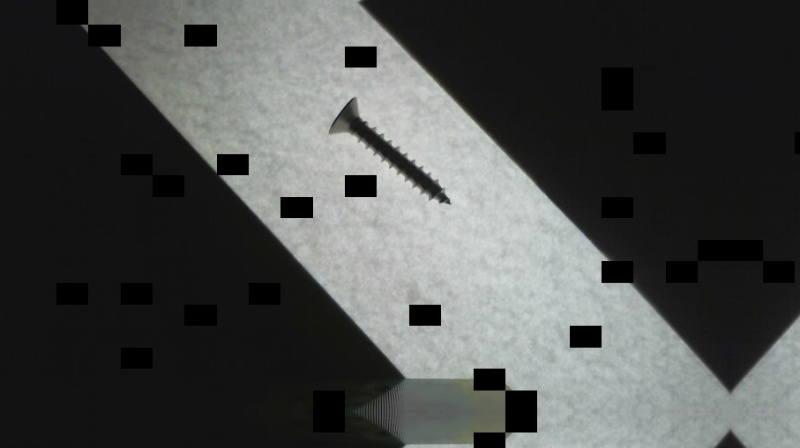S001: (326, 95, 455, 207)
